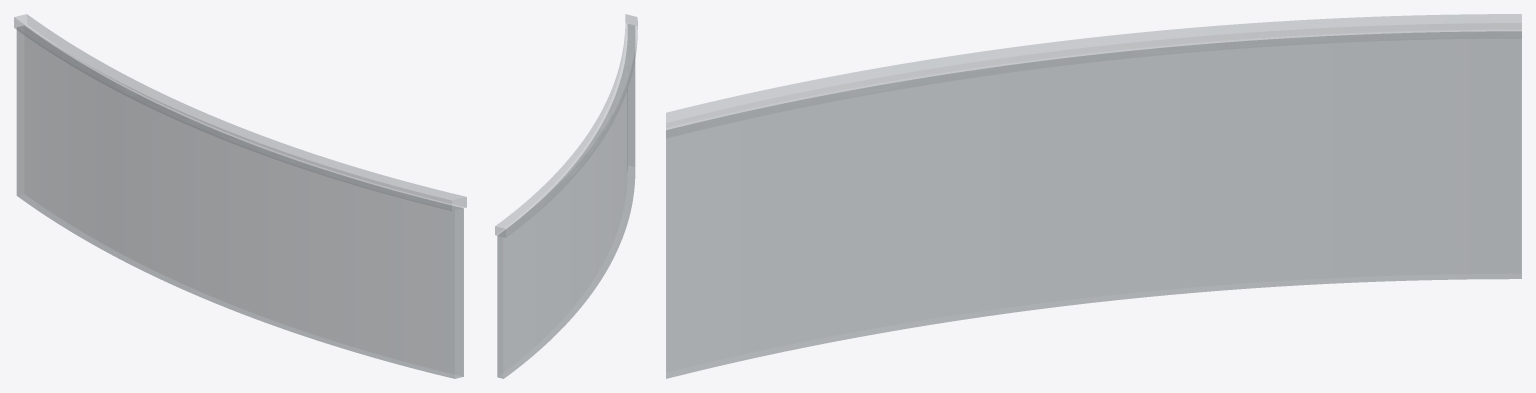
Rendered from rink_glass_corner_iihf_left_4x4.glb.
The picture shows the model from 3 angles, left to right: view 1: azimuth 30°, elevation 25°; view 2: azimuth 150°, elevation 25°; view 3: azimuth 270°, elevation 25°; orthographic projection. The views are drawn at different scales.
Parts seen in each view (by area): view 1: rink_glass_corner_iihf_left_4x4; view 2: rink_glass_corner_iihf_left_4x4; view 3: rink_glass_corner_iihf_left_4x4.
Part boxes in pixels (box(x1,y1,x2,y2)): rink_glass_corner_iihf_left_4x4: box(14, 14, 466, 378); rink_glass_corner_iihf_left_4x4: box(495, 14, 637, 378); rink_glass_corner_iihf_left_4x4: box(666, 14, 1521, 378).
Bounding box in the file's own units: 1.21 × 1.33 × 4.
Materials: 1 (1 with a texture image).
